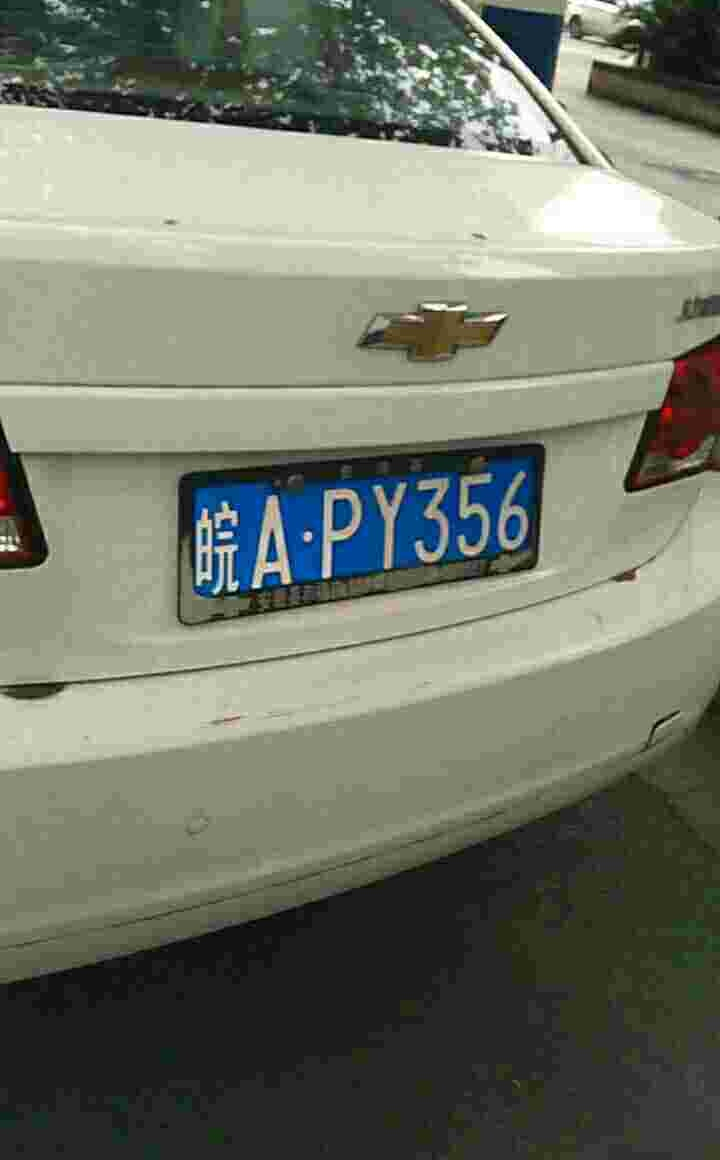license_plate: (196, 444, 539, 595)
